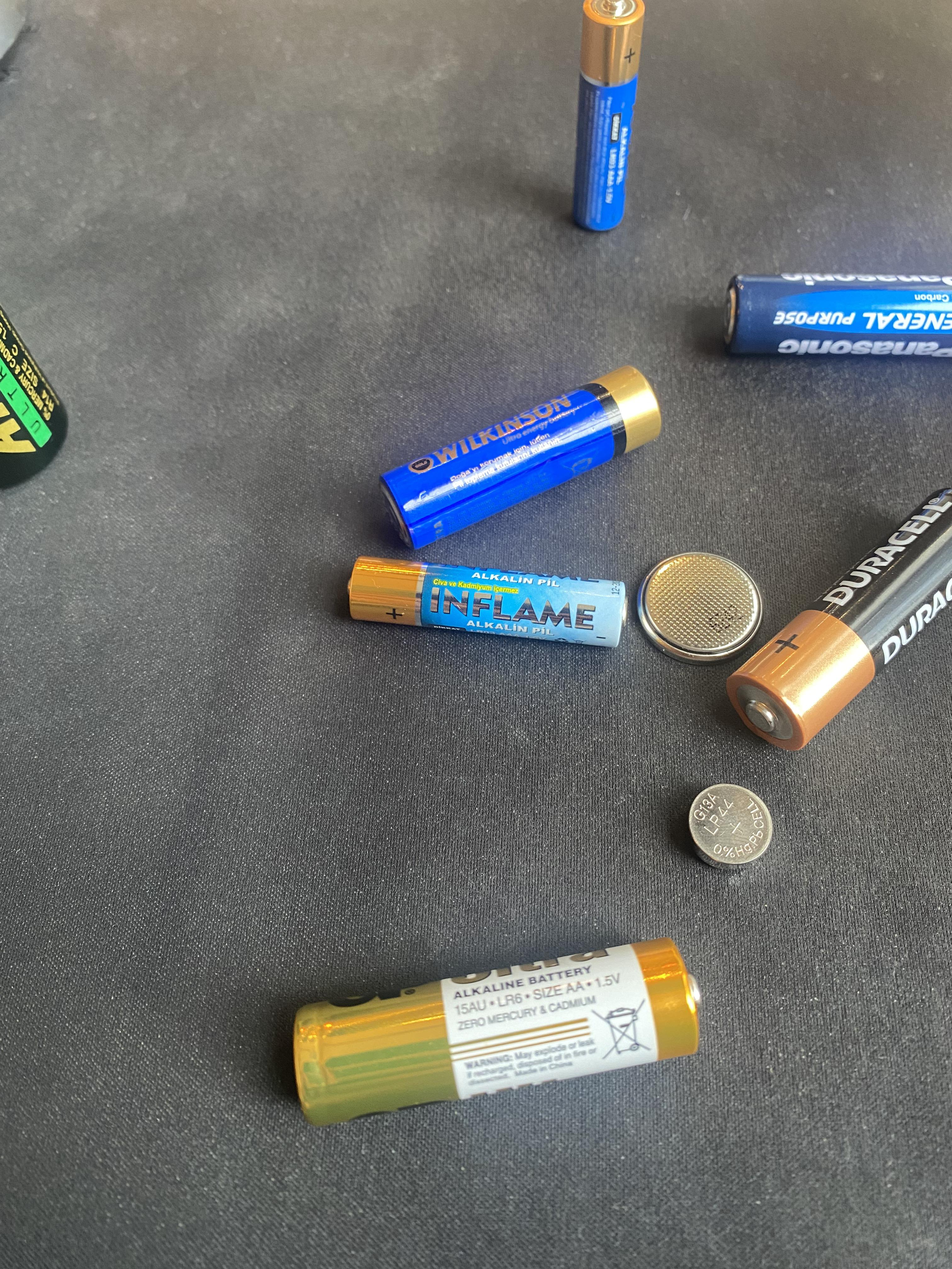AA: (378, 363, 662, 550)
COIN: (633, 532, 774, 677), (677, 781, 784, 903)
